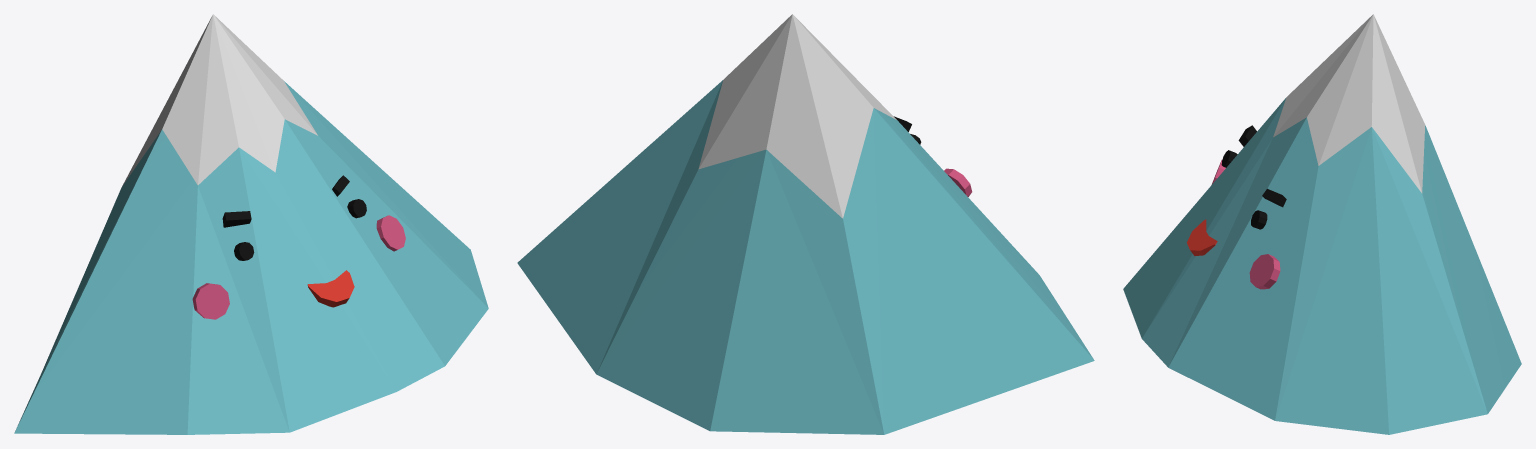
The picture shows the model from 3 angles, left to right: view 1: azimuth 30°, elevation 25°; view 2: azimuth 150°, elevation 25°; view 3: azimuth 270°, elevation 25°; orthographic projection. The views are drawn at different scales.
Parts seen in each view (by area): view 1: node_MeshObject127203328-PolyPaper21; view 2: node_MeshObject127203328-PolyPaper21; view 3: node_MeshObject127203328-PolyPaper21.
Boxes of the visible parts, left/top/right/bottom form: node_MeshObject127203328-PolyPaper21: left=14, top=14, right=488, bottom=434; node_MeshObject127203328-PolyPaper21: left=517, top=14, right=1094, bottom=434; node_MeshObject127203328-PolyPaper21: left=1123, top=14, right=1521, bottom=434.
Size of the model in its own units: 0.3232 by 0.2157 by 0.2242.
